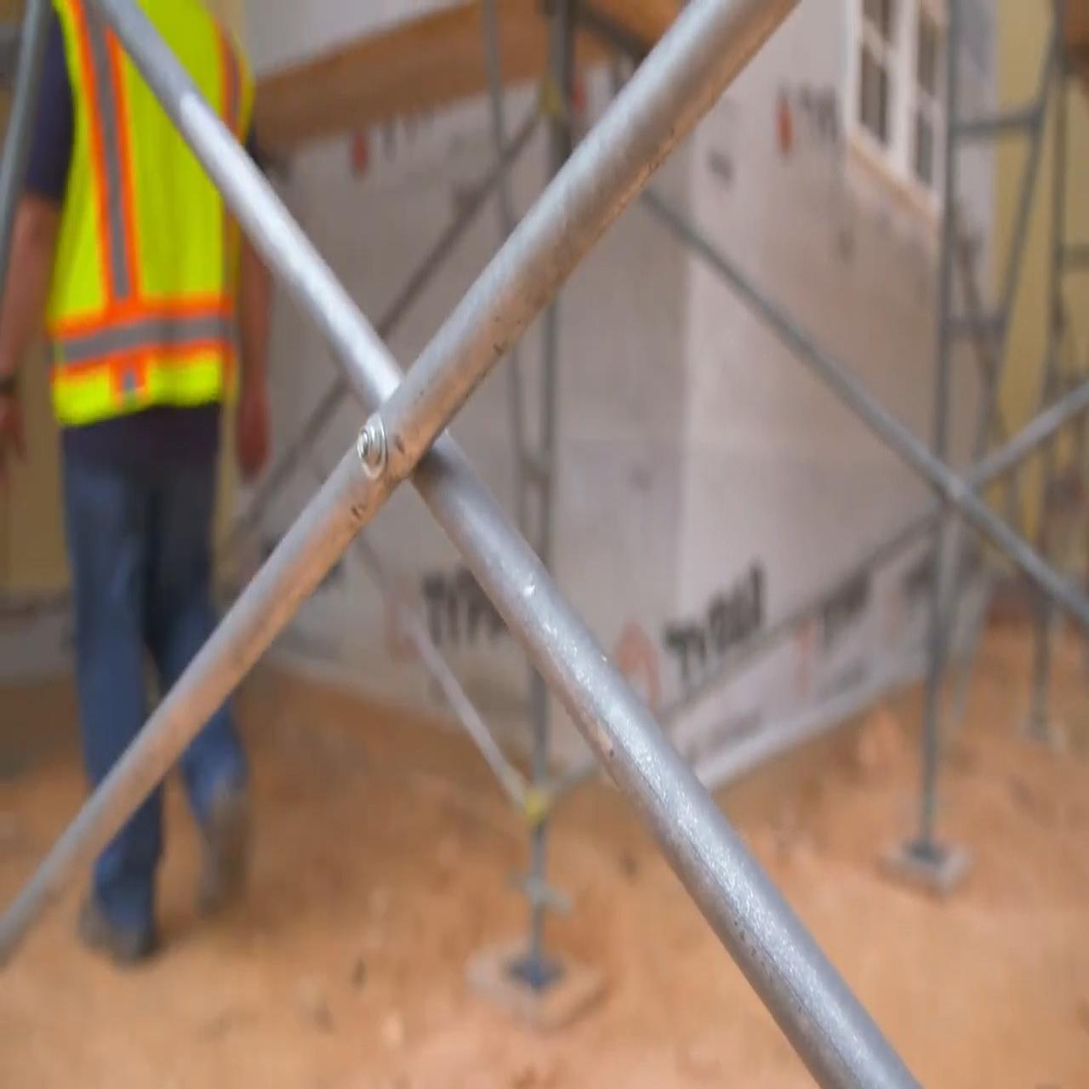Person: (0, 0, 271, 970)
Safety_Vest: (40, 0, 258, 412)
